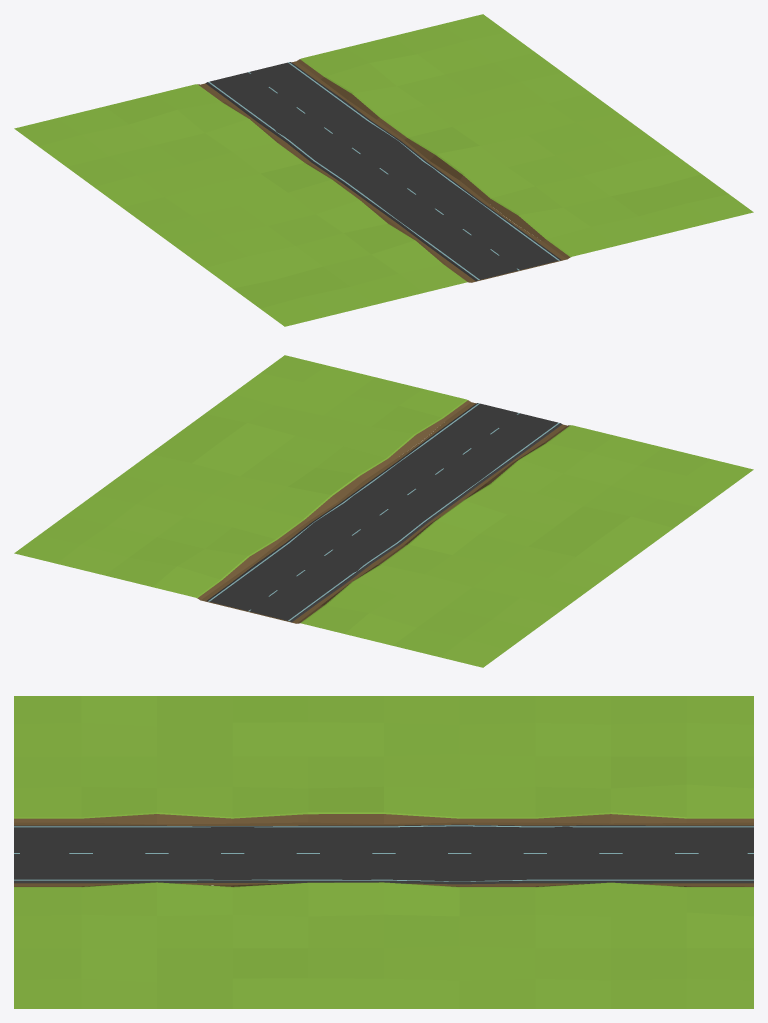
File: model_road_grass_straight_01.fbx
3 renders of one model, top to bottom at view 1: azimuth 30°, elevation 25°; view 2: azimuth 150°, elevation 25°; view 3: azimuth 270°, elevation 25°, orthographic. The views are drawn at different scales.
Visible parts, largest first — view 1: model_road_grass_straight_01; view 2: model_road_grass_straight_01; view 3: model_road_grass_straight_01.
Boxes of the visible parts, box(x1,y1,x2,y2) form: model_road_grass_straight_01: box(14, 14, 753, 326); model_road_grass_straight_01: box(14, 355, 753, 667); model_road_grass_straight_01: box(14, 696, 753, 1008).
Bounding box in the file's own units: 6000 × 62.78 × 6000.
Materials: 1 (1 with a texture image).
